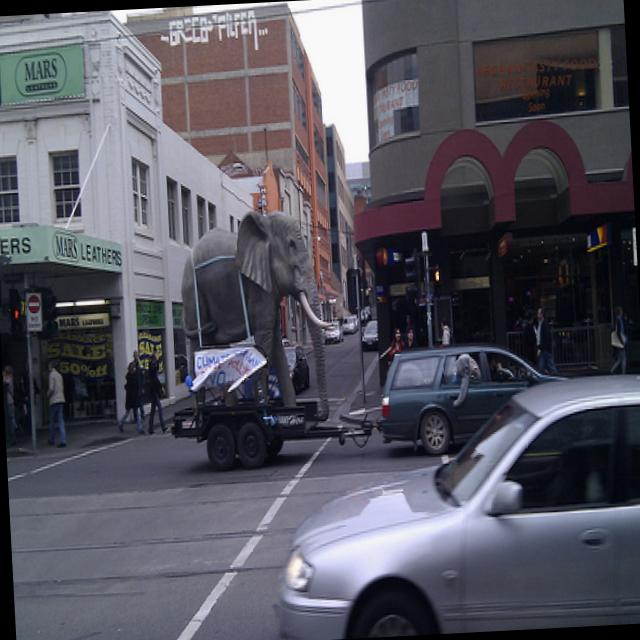Vehicle: (260, 373, 640, 640), (375, 339, 573, 460), (362, 320, 379, 350), (324, 320, 344, 344), (342, 316, 356, 336), (360, 308, 372, 327)
